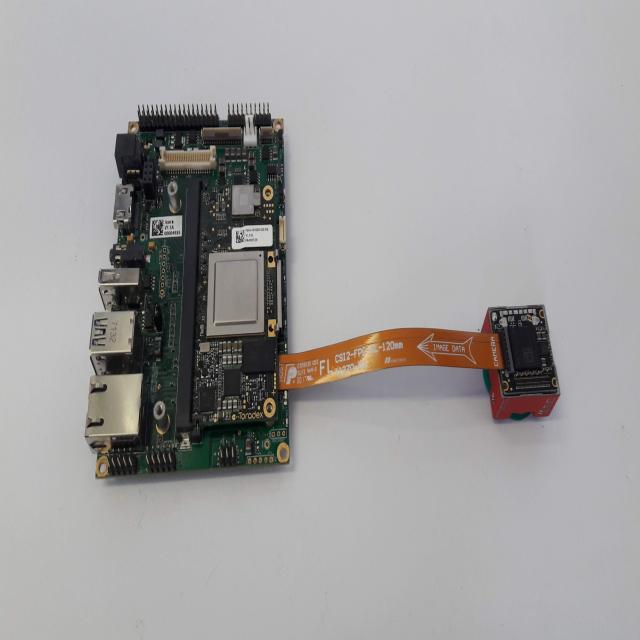som: (189, 179, 278, 429)
